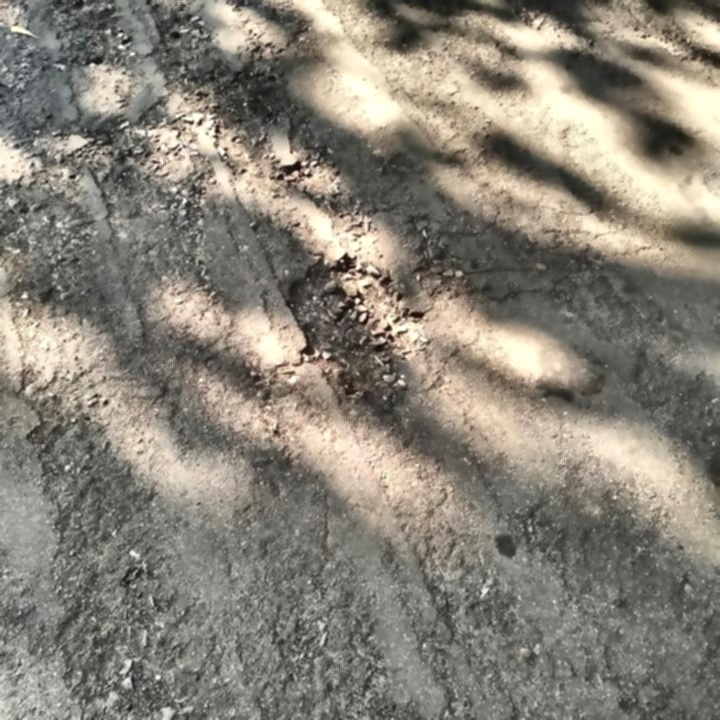pothole: (277, 259, 428, 396)
